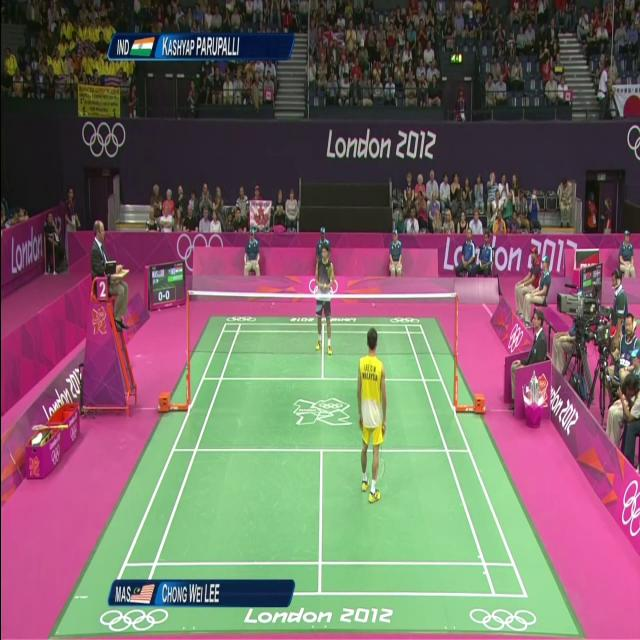Net: (190, 286, 457, 385)
Player1: (348, 311, 396, 508)
Player2: (309, 239, 343, 350)
